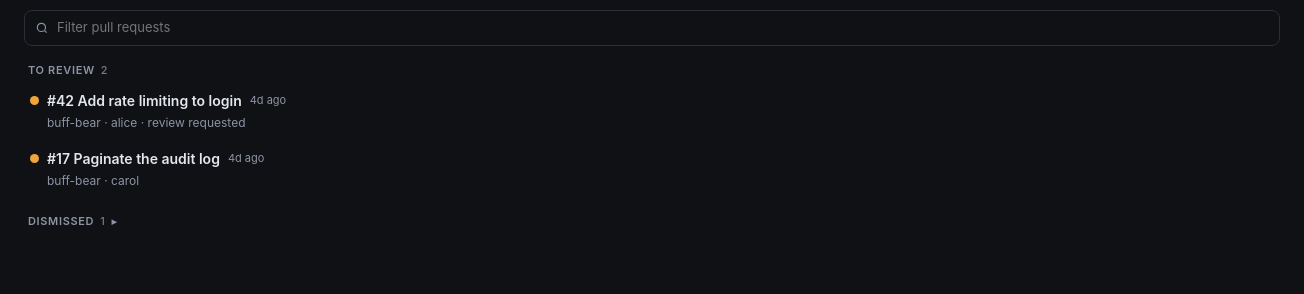
Test: ReviewsList › collapses Dismissed until it's opened
Expected: the text "#40 WIP: try sqlc" is not shown
What coordinates should you click on to do the following:
click the button "Dismissed 1 ▸"
I would click on:
 (61, 221)
Its box is [12,206,1292,232].
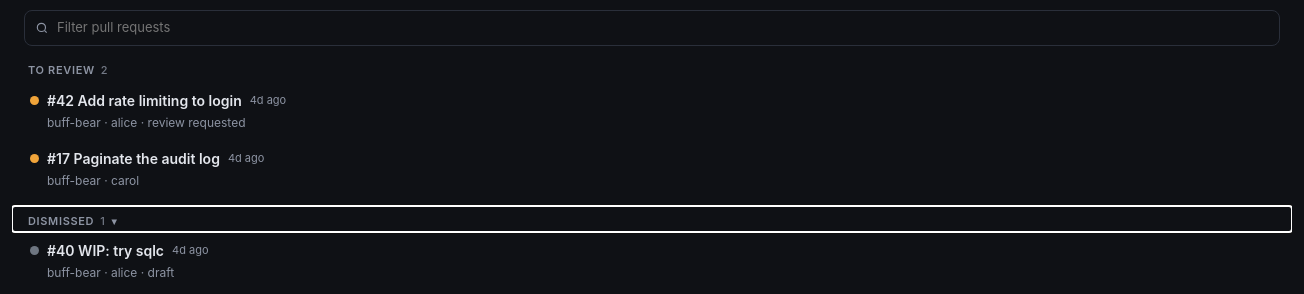
Result: the text "#40 WIP: try sqlc" is shown at [47,240,164,261]
